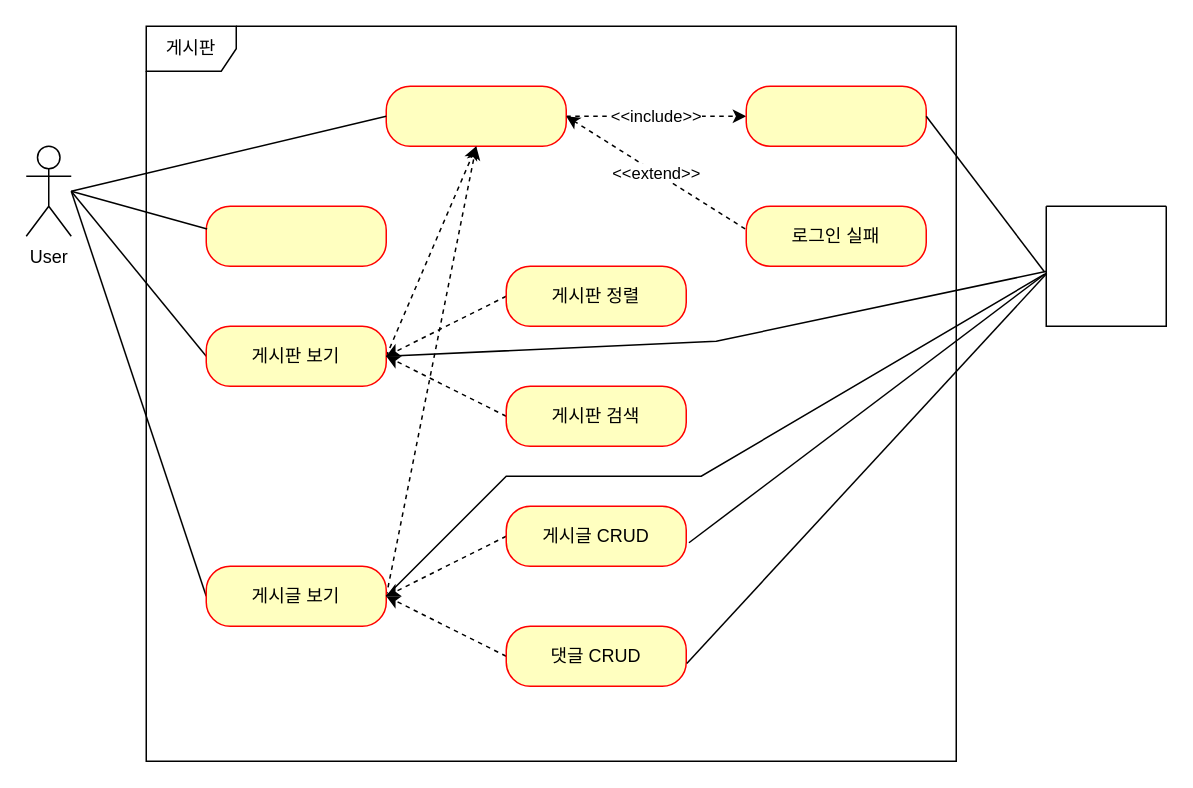
Some shapes in this 1193 by 788 pixel diagram are drawn without their labels. Here are the shapes that lost their labels. From the top down, the centre of each, then its label:
At point (475, 115): "로그인".
At point (835, 115): "인증".
At point (295, 235): "회원 가입".
At point (1105, 265): "DB".
